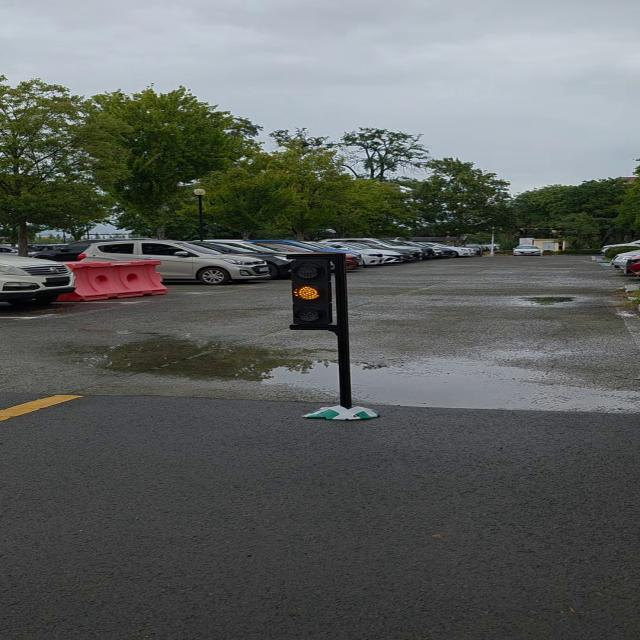yellow: (290, 255, 340, 331)
